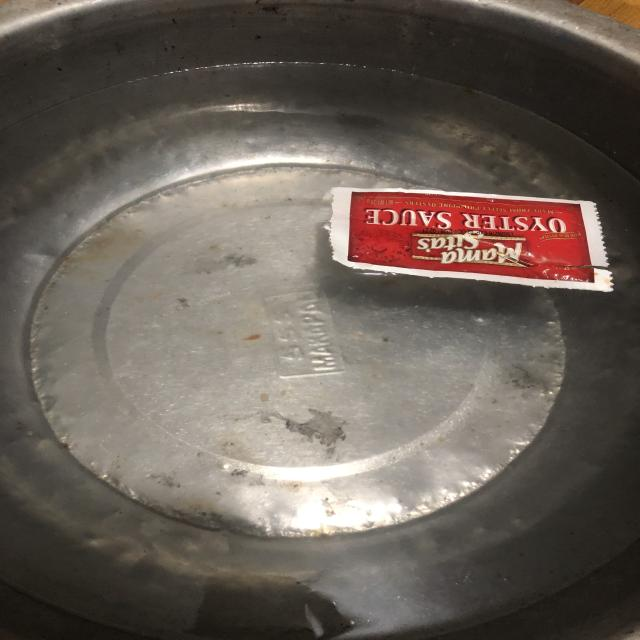Plastic Wrapper: (299, 173, 631, 308)
